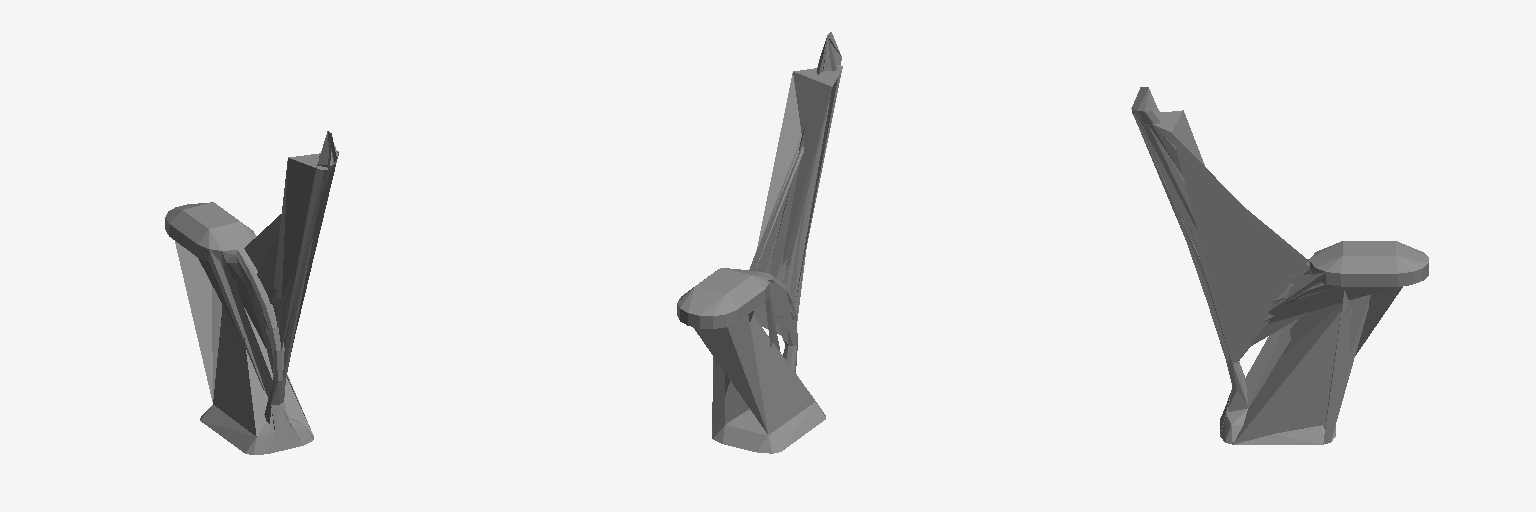
File: 2_office_lamps.obj
The picture shows the model from 3 angles: view 1: azimuth 30°, elevation 25°; view 2: azimuth 150°, elevation 25°; view 3: azimuth 270°, elevation 25°; orthographic projection.
Parts seen in each view (by area): view 1: office_lamp_A, office_lamp_B; view 2: office_lamp_A, office_lamp_B; view 3: office_lamp_A, office_lamp_B.
Part boxes in pixels (left/top/right/bottom): office_lamp_A: left=175, top=131, right=338, bottom=439; office_lamp_B: left=165, top=202, right=313, bottom=454; office_lamp_A: left=693, top=32, right=842, bottom=438; office_lamp_B: left=677, top=268, right=825, bottom=453; office_lamp_A: left=1131, top=87, right=1402, bottom=444; office_lamp_B: left=1220, top=241, right=1428, bottom=444.
Size of the model in its own units: 21.82 by 104 by 81.23.